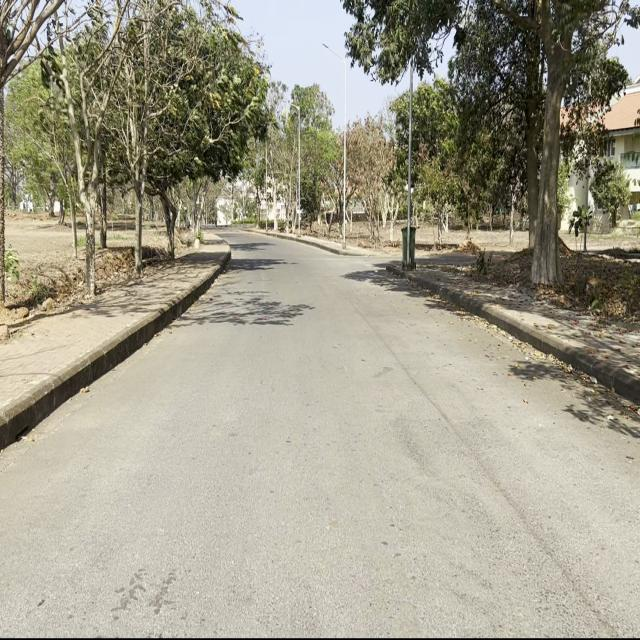Road: (5, 233, 639, 631)
